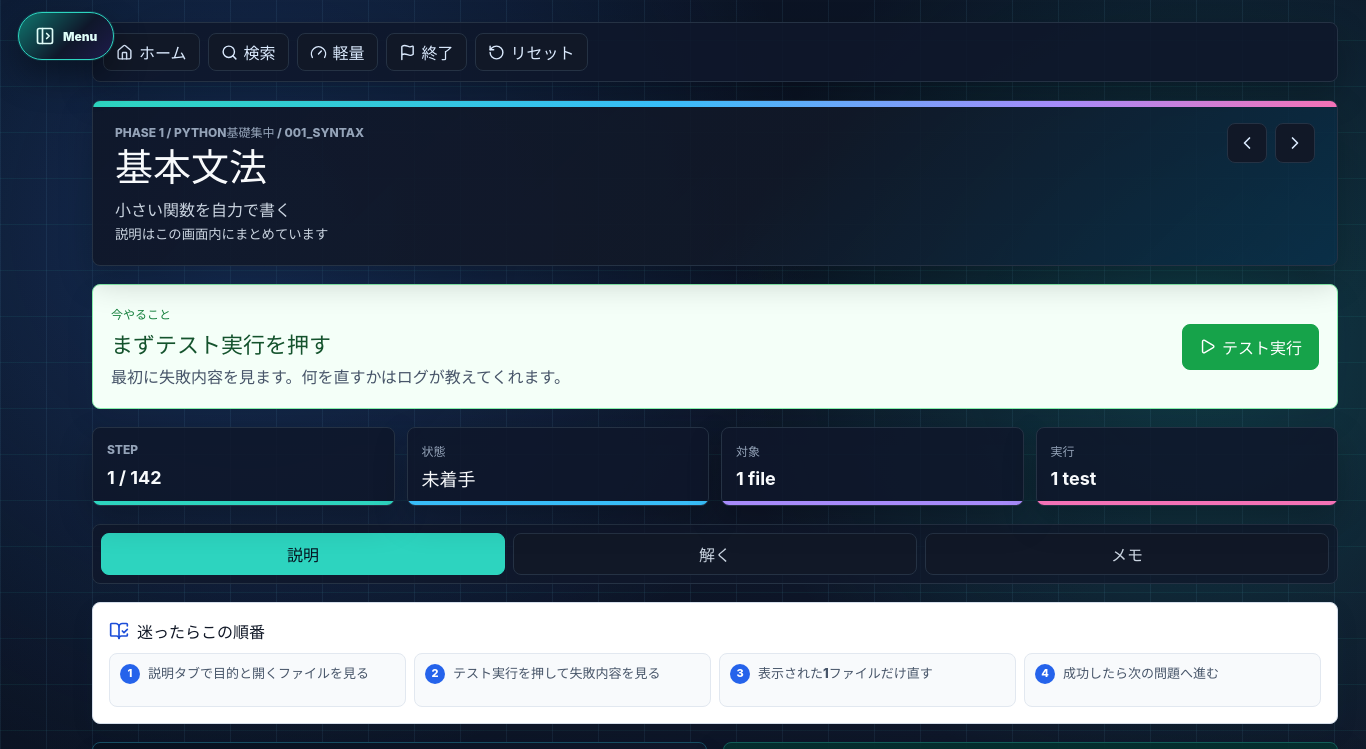
Scenario: Python Master app › 効率ルートはホーム画面だけに表示する
Check: the element with class "mentor-main" does not show "効率ルート"
Click the button "ホーム": click(151, 52) [103,33,200,71]
(page scrolled)
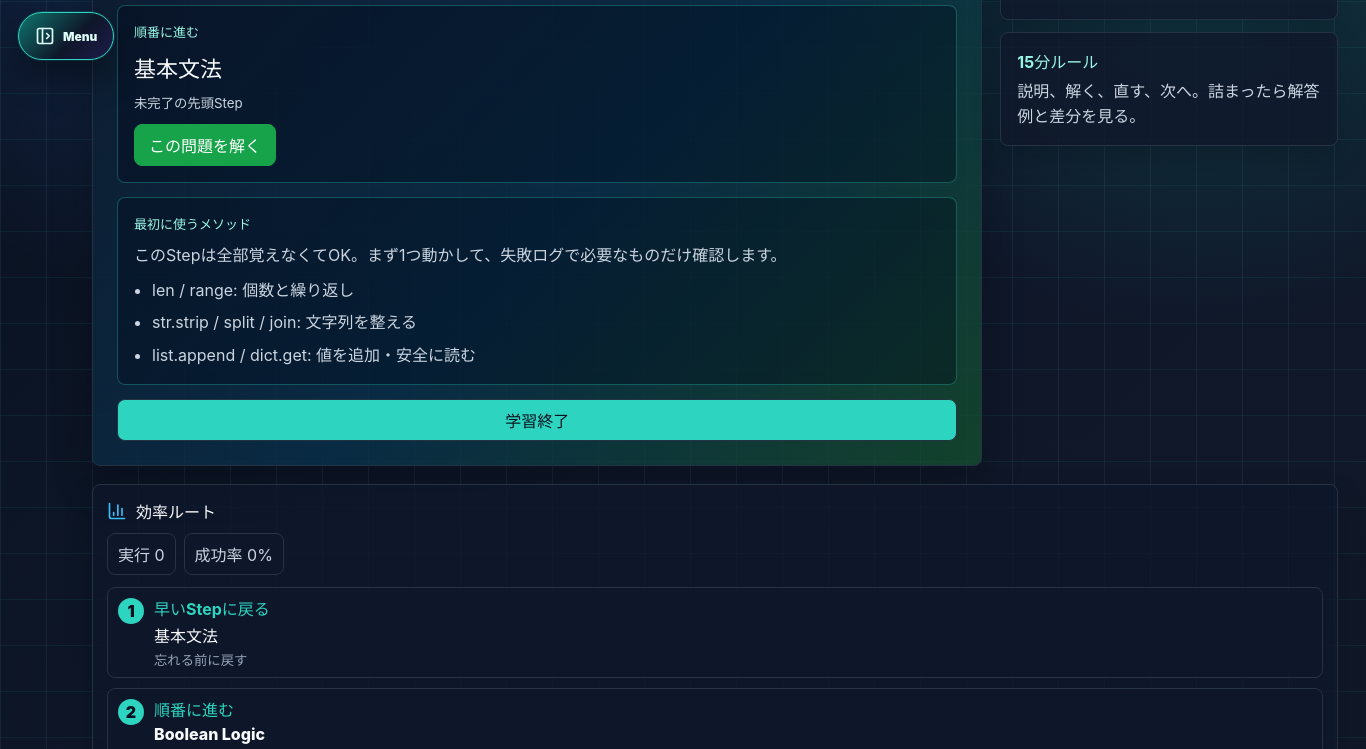
Check: the element with class "home-dashboard" shows "効率ルート", box [136,502,216,522]
